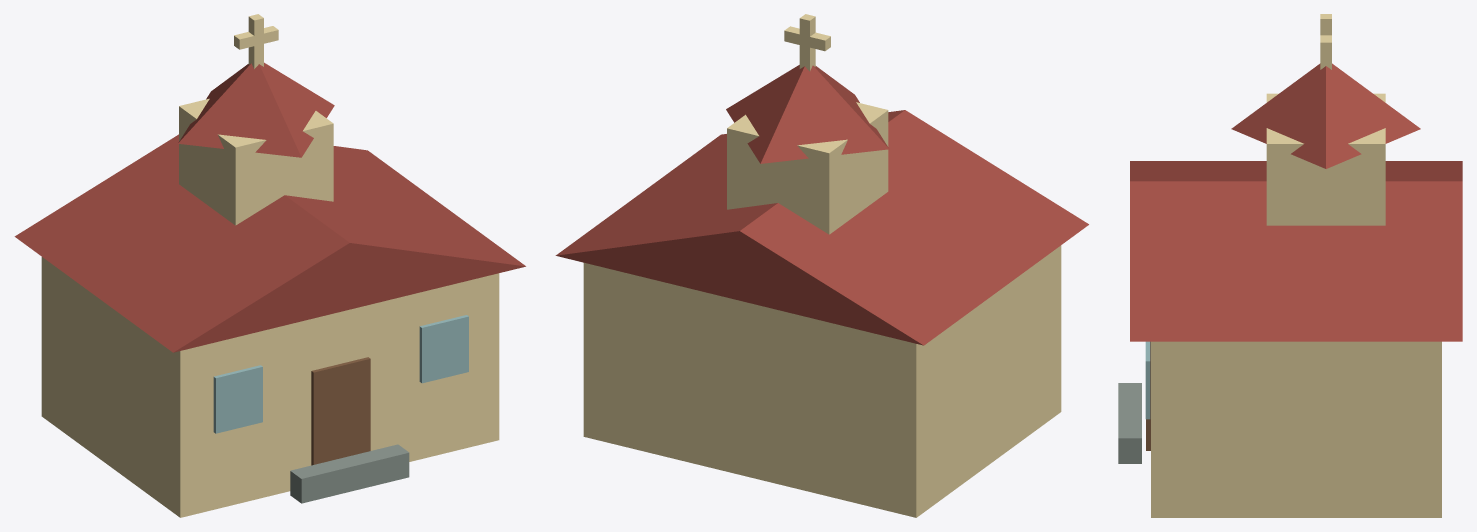
The model's file is bld_chapel.glb.
3 renders of one model, left to right at view 1: azimuth 30°, elevation 25°; view 2: azimuth 150°, elevation 25°; view 3: azimuth 270°, elevation 25°, orthographic. The views are drawn at different scales.
Parts seen in each view (by area): view 1: bld_chapel; view 2: bld_chapel; view 3: bld_chapel.
Boxes of the visible parts, left/top/right/bottom form: bld_chapel: left=14, top=14, right=525, bottom=517; bld_chapel: left=555, top=14, right=1088, bottom=517; bld_chapel: left=1118, top=14, right=1462, bottom=517.
Size of the model in its own units: 3.6 by 3.9 by 2.9.
1 material, 1 textured.
